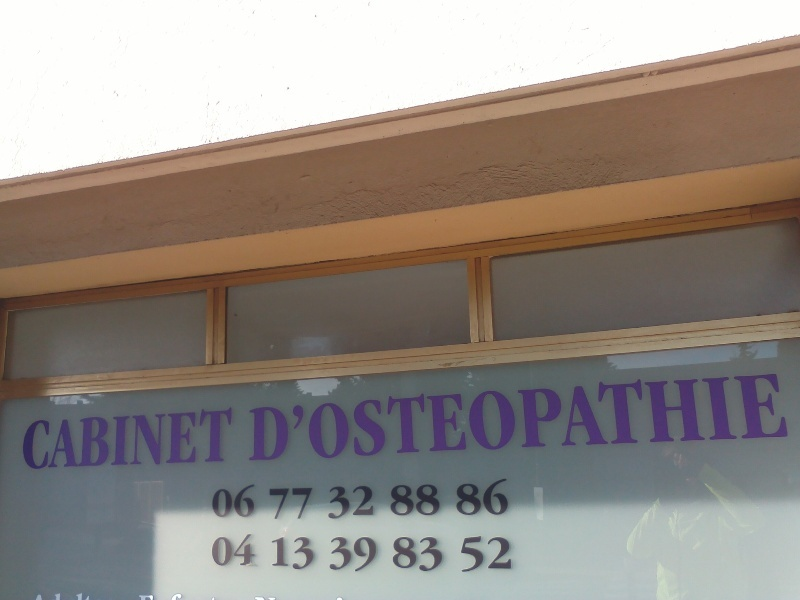text: (241, 371, 256, 465), (257, 371, 272, 465), (273, 371, 288, 465), (289, 371, 304, 465), (305, 371, 320, 465), (321, 371, 336, 465), (337, 371, 352, 465), (353, 371, 368, 465), (369, 371, 384, 465), (385, 371, 400, 465), (401, 371, 416, 465), (417, 371, 432, 465), (433, 371, 448, 465), (449, 371, 464, 465), (465, 371, 480, 465), (481, 371, 496, 465), (497, 371, 512, 465), (513, 371, 528, 465), (529, 371, 544, 465), (545, 371, 560, 465), (561, 371, 576, 465), (577, 371, 592, 465), (593, 371, 608, 465), (609, 371, 624, 465), (625, 371, 640, 465), (641, 371, 656, 465), (657, 371, 672, 465), (673, 371, 688, 465), (689, 371, 704, 465), (705, 371, 720, 465), (721, 371, 736, 465), (737, 371, 752, 465), (753, 371, 768, 465), (769, 371, 784, 465), (33, 407, 48, 472), (49, 407, 64, 472), (65, 407, 80, 472), (81, 407, 96, 472), (97, 407, 112, 472), (113, 407, 128, 472), (129, 407, 144, 472), (145, 407, 160, 472), (161, 407, 176, 472), (177, 407, 192, 472), (193, 407, 208, 472), (209, 407, 224, 472), (785, 371, 793, 465), (225, 407, 236, 472), (465, 477, 480, 519), (481, 477, 496, 519), (497, 477, 512, 519), (209, 530, 224, 572), (225, 530, 240, 572), (241, 530, 256, 572), (337, 533, 352, 575), (353, 533, 368, 575), (465, 532, 480, 573), (481, 532, 496, 573), (497, 532, 512, 573), (401, 534, 416, 574), (417, 534, 432, 574), (225, 483, 240, 522), (337, 483, 352, 522), (353, 483, 368, 522), (23, 407, 32, 472), (273, 533, 288, 572), (289, 533, 304, 572), (273, 485, 288, 521), (289, 485, 304, 521), (401, 483, 416, 519), (417, 483, 432, 519), (241, 483, 254, 522), (323, 483, 336, 522), (386, 483, 400, 519), (324, 533, 336, 575), (369, 533, 381, 575), (212, 483, 224, 522), (305, 533, 316, 572), (454, 477, 464, 519), (236, 371, 240, 465), (305, 485, 315, 521), (433, 483, 443, 519), (433, 534, 442, 574), (369, 483, 378, 522), (456, 532, 464, 573), (392, 534, 400, 574), (265, 533, 272, 572), (257, 530, 261, 572), (513, 532, 516, 573), (270, 485, 272, 521)
